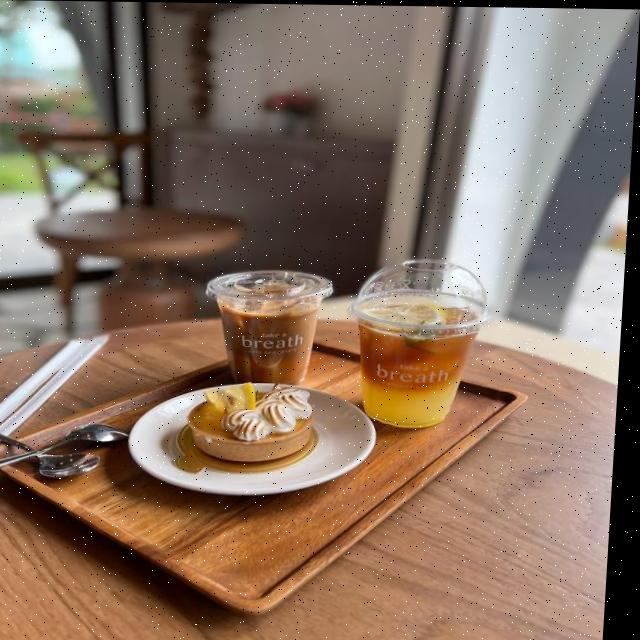cup: (343, 232, 511, 468), (172, 244, 349, 422)
